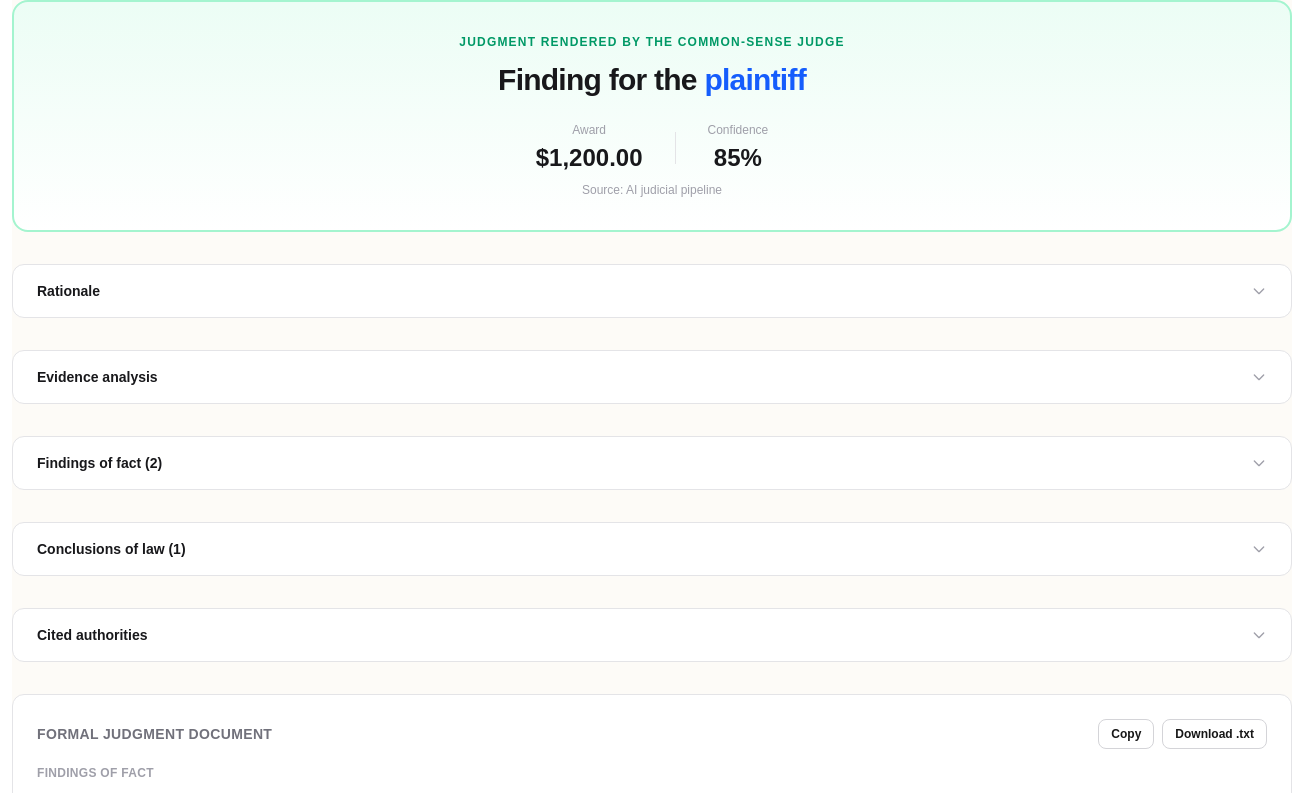
JudgmentView › displays rationale text when section is expanded
The image size is (1304, 793).
Click the button "Rationale" at (69, 291), box [13,265,1291,317]
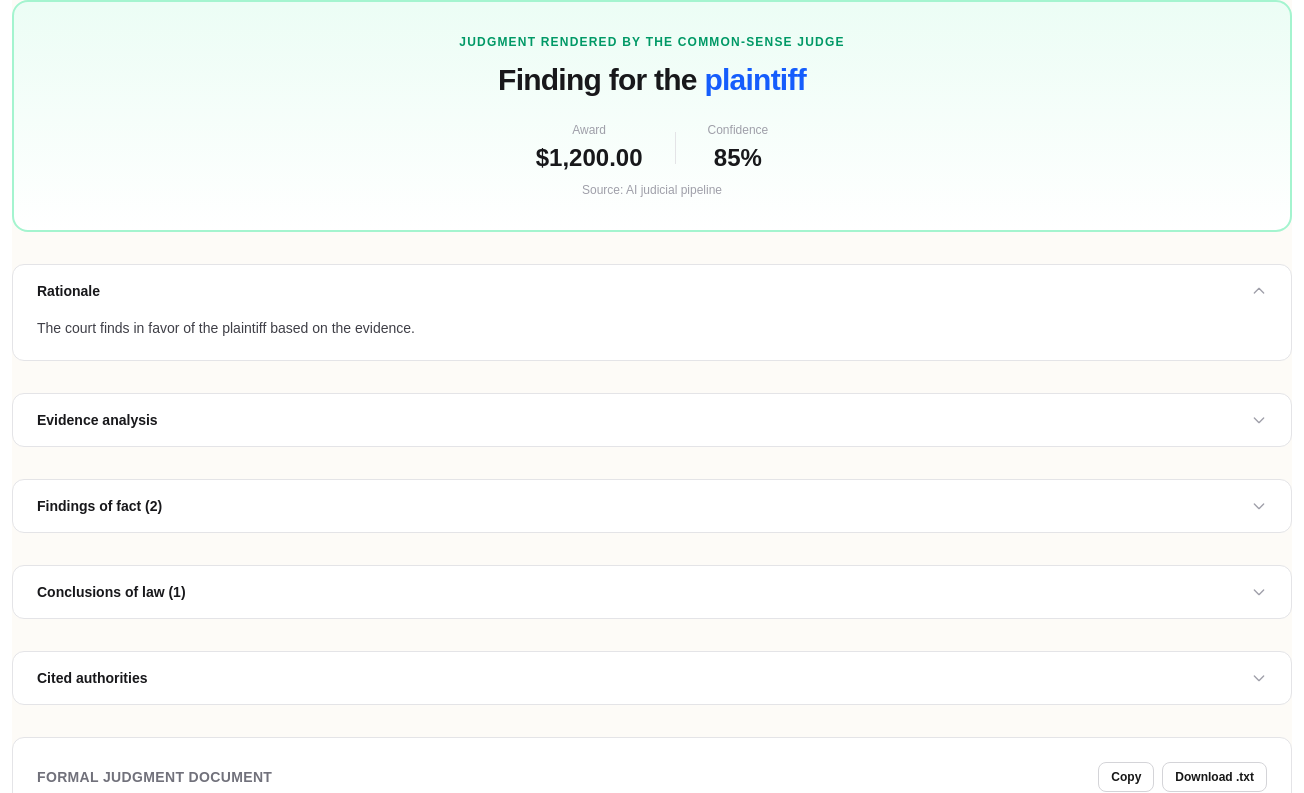
Expected: the text "court finds in favor of the plaintiff" is shown, [37,320,415,336]
